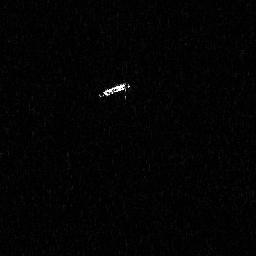ship: (98, 80, 131, 100)
